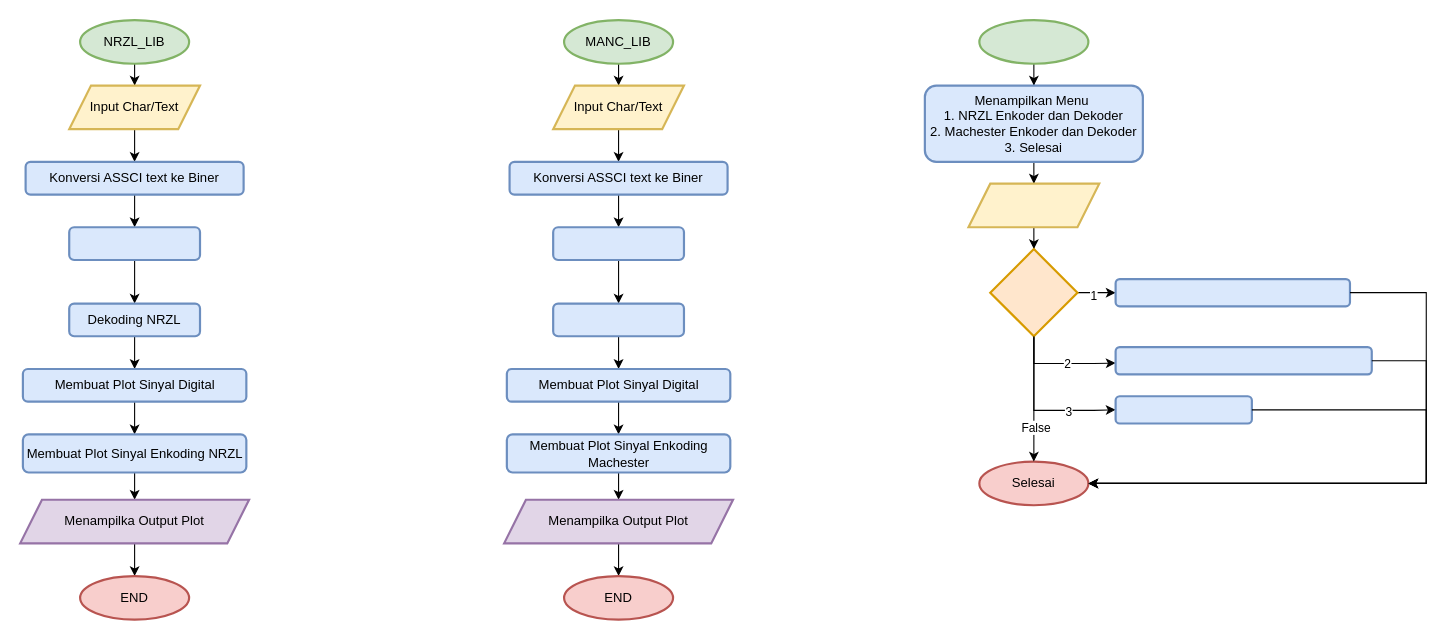
The diagram is 1454 pixels wide and 639 high, and some of its shapes have lost their labels. Each missing label, with the centre of its shape:
"Dekoding Manchester" goes at (x=618, y=319).
"Enkoding Manchester" goes at (x=618, y=243).
"Enkoding NRZL" goes at (x=134, y=243).
"Input (1,2,3)" goes at (x=1033, y=205).
"Keluar dari Menu" goes at (x=1183, y=409).
"Menjalankan Program Plot MANC_LIB" goes at (x=1243, y=360).
"Menjalankan Program Plot NRZL_LIB" goes at (x=1232, y=292).
"Mulai" goes at (x=1033, y=41).
"Pilihan?" goes at (x=1033, y=292).
